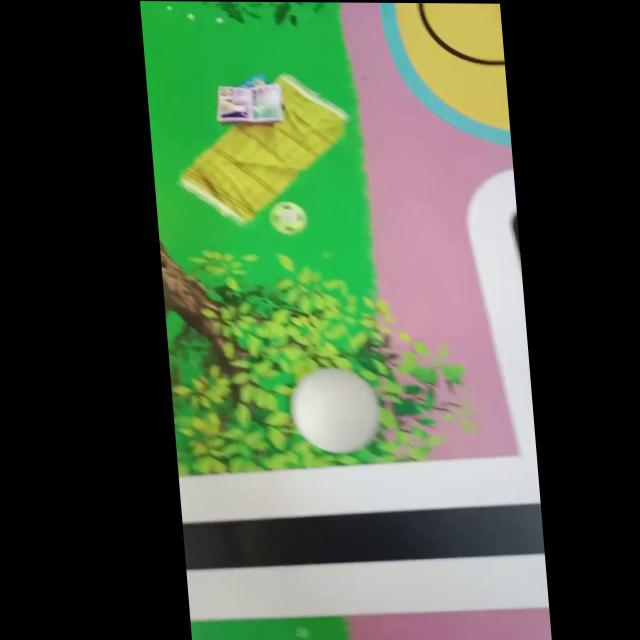white ball: (286, 366, 382, 454)
